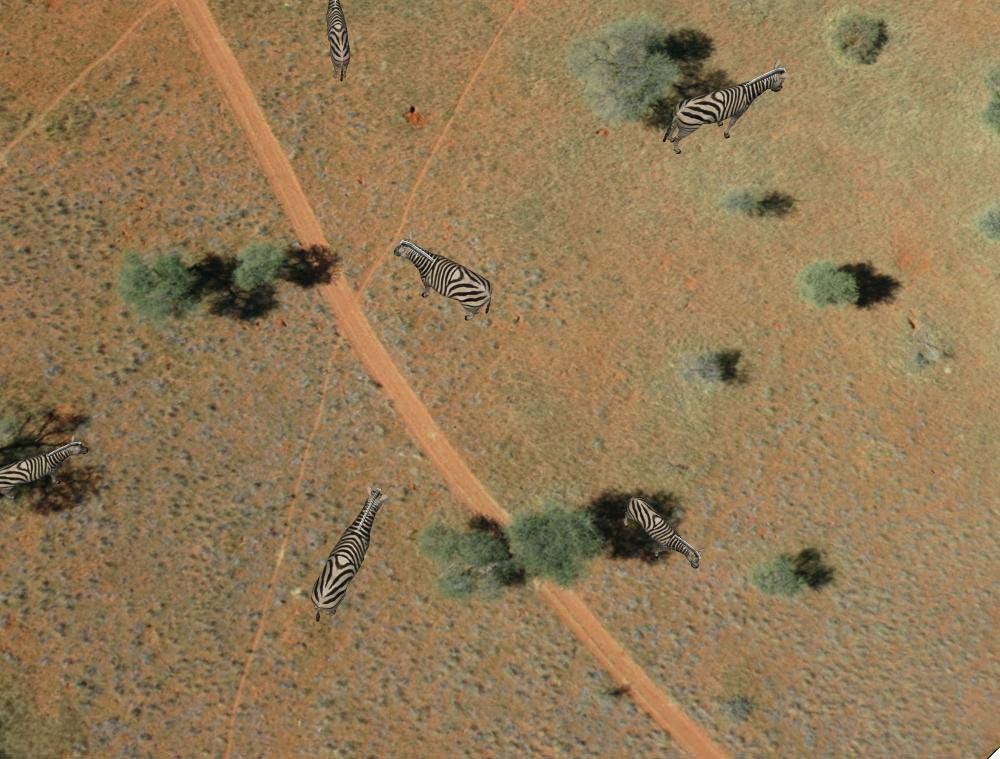zebra: (664, 62, 788, 154), (309, 480, 382, 624), (391, 239, 498, 326), (1, 439, 88, 516), (620, 494, 702, 575), (317, 1, 356, 88)
